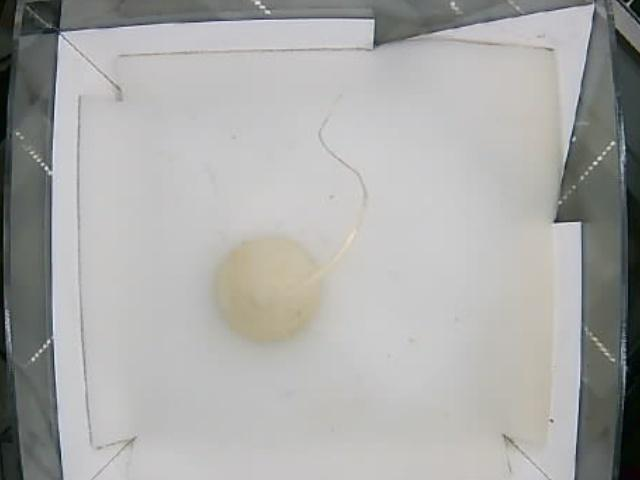Mooli: (217, 234, 320, 341)
